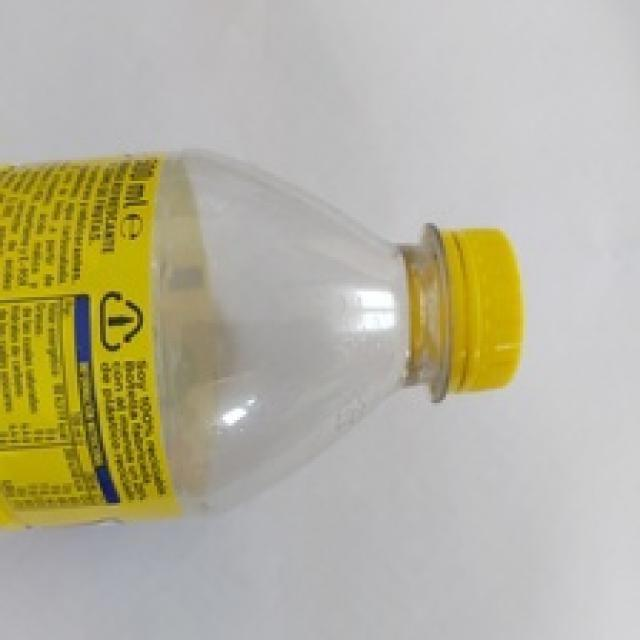bottle: (1, 140, 559, 532)
